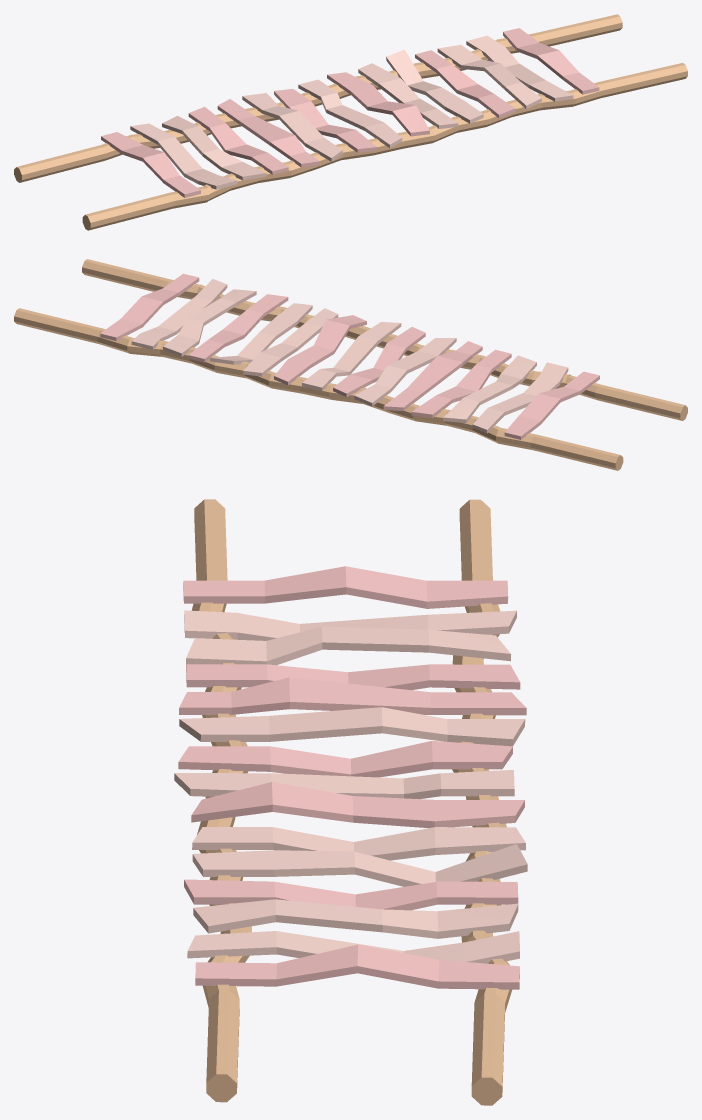
The model's file is Fall_Platform.fbx.
3 renders of one model, top to bottom at view 1: azimuth 30°, elevation 25°; view 2: azimuth 150°, elevation 25°; view 3: azimuth 270°, elevation 25°, orthographic. The views are drawn at different scales.
Visible parts, largest first — view 1: FP_01, FP_15, FP_09, FP_05, FP_06, FP_11, FP_02, FP_08, FP_12, FP_04, FP_03, FP_14 (+3 smaller); view 2: FP_01, FP_15, FP_09, FP_05, FP_08, FP_12, FP_04, FP_13, FP_03, FP_11, FP_06, FP_14 (+3 smaller); view 3: FP_15, FP_01, FP_09, FP_05, FP_06, FP_13, FP_07, FP_03, FP_11, FP_10, FP_12, FP_04 (+3 smaller).
Part boxes in pixels (x1,y1,x2,y2): FP_01: (14,132,209,230); FP_15: (497,14,687,106); FP_09: (327,72,434,148); FP_05: (217,99,319,177); FP_06: (242,93,343,169); FP_11: (386,49,488,132); FP_02: (130,123,237,200); FP_08: (298,79,404,155); FP_12: (415,50,515,126); FP_04: (188,106,291,182); FP_03: (162,116,266,190); FP_14: (466,35,575,110); FP_01: (496,371,687,470); FP_15: (14,259,200,353); FP_09: (269,315,368,393); FP_05: (383,341,482,420); FP_08: (299,322,401,399); FP_12: (188,294,288,372); FP_04: (411,349,511,425); FP_13: (160,289,256,363); FP_03: (443,355,536,432); FP_11: (210,303,312,378); FP_06: (354,338,456,412); FP_14: (127,279,227,356); FP_15: (195,944,519,1105); FP_01: (183,499,508,612); FP_09: (191,782,524,834); FP_05: (179,677,526,718); FP_06: (179,707,525,746); FP_13: (193,899,518,942); FP_07: (178,741,512,777); FP_03: (186,626,511,665); FP_11: (192,844,527,886); FP_10: (192,827,525,861); FP_12: (184,879,518,910); FP_04: (186,664,520,692).
Size of the model in its own units: 1519 by 71.1 by 388.
